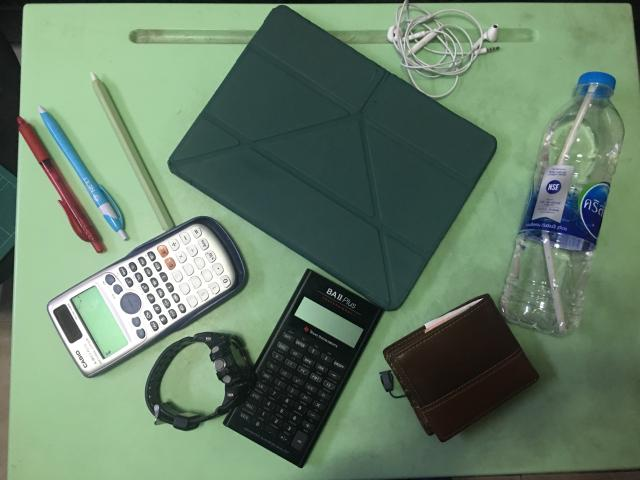Pen: (38, 106, 128, 240), (18, 116, 105, 252)
Wallet: (384, 294, 539, 442)
Watch: (145, 332, 256, 431)
bottle: (500, 71, 624, 335)
wire: (388, 0, 498, 99)
